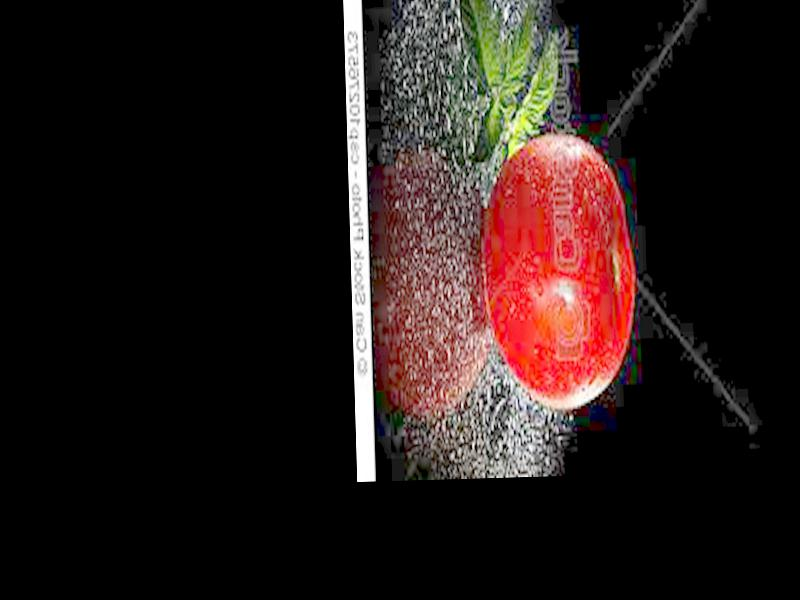Tomato: (479, 133, 638, 410)
